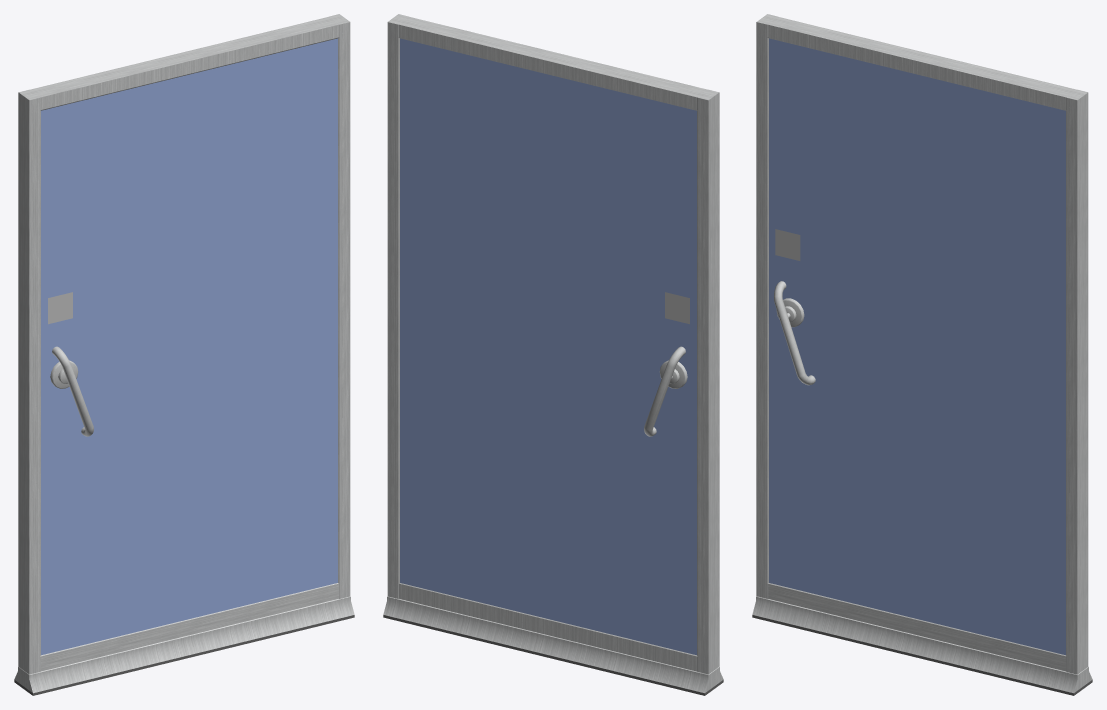
The model's file is OR_Door_Side.fbx.
3 renders of one model, left to right at view 1: azimuth 30°, elevation 25°; view 2: azimuth 150°, elevation 25°; view 3: azimuth 330°, elevation 25°, orthographic.
Visible parts, largest first — view 1: OR_Door_Side; view 2: OR_Door_Side; view 3: OR_Door_Side.
Boxes of the visible parts, bbox=[...] form: OR_Door_Side: bbox=[14, 14, 354, 695]; OR_Door_Side: bbox=[383, 14, 723, 695]; OR_Door_Side: bbox=[752, 14, 1092, 695].
Bounding box in the file's own units: 123 × 217 × 20.21.
